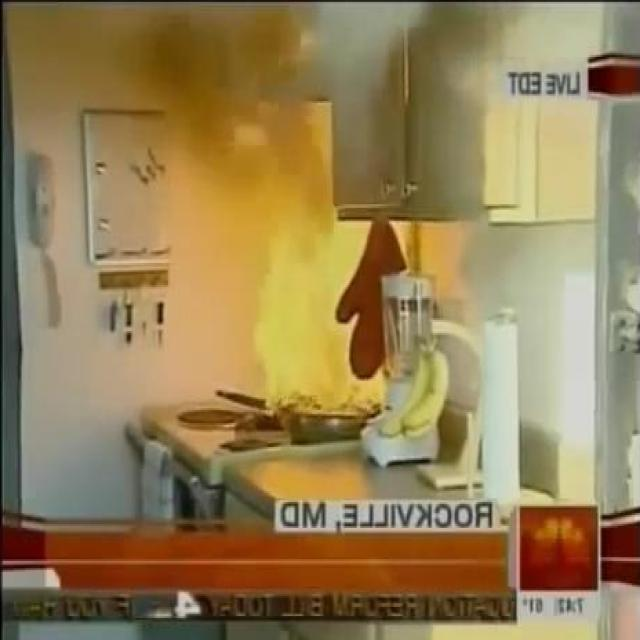fire: (441, 2, 640, 186), (278, 0, 426, 166)
smoke: (252, 202, 403, 412)
